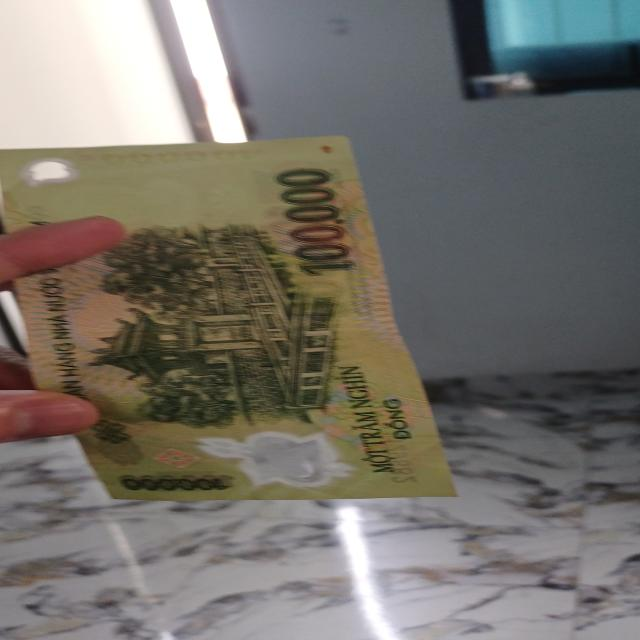100 000 VND: (0, 132, 470, 505)
